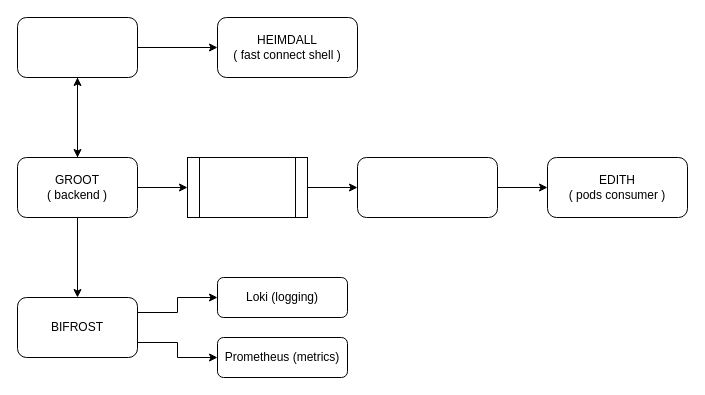
Image size: 705x395. Some labels were removed from this diagram. The shapes that lost their labels are listed below. From the top down, each one's centre as x and y in pixels, then its label:
(77,47): S.H.I.E.L.D ( frontend )
(247,187): SQS ( Jobs )
(427,187): BLACKBIRD ( devops orchestrator )
